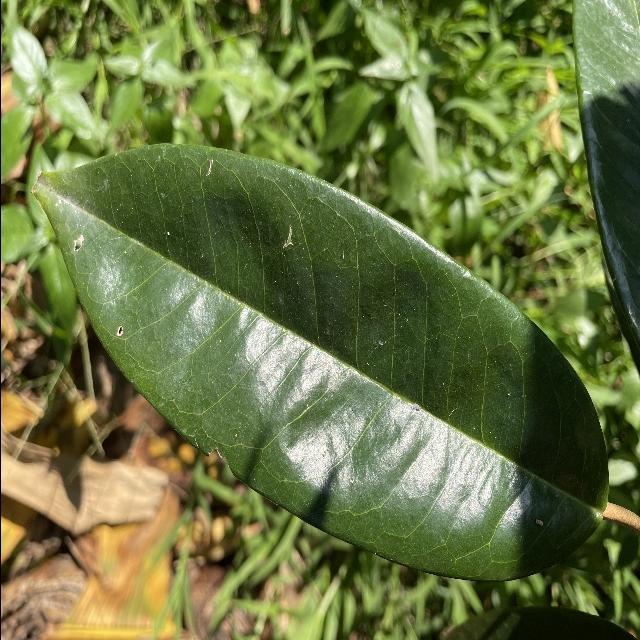No Disease: (25, 133, 619, 593)
